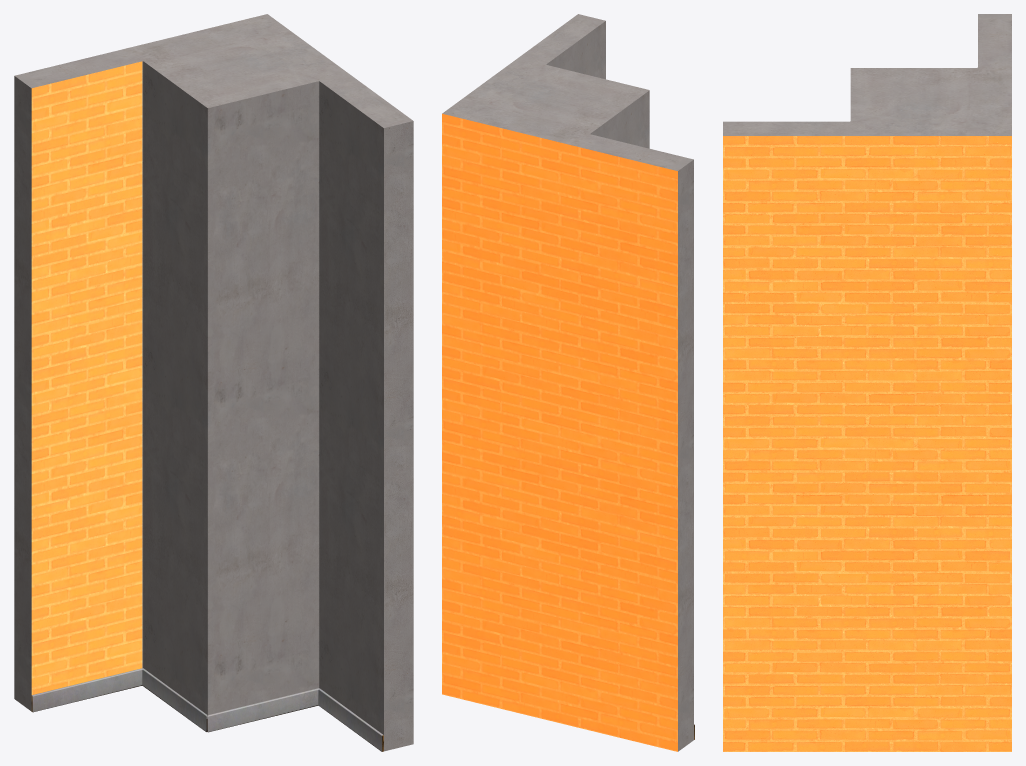
The model's file is SM_Wall_CornerIn_1_5x3_5_01b.fbx.
3 views of the same model, side by side, from view 1: azimuth 30°, elevation 25°; view 2: azimuth 150°, elevation 25°; view 3: azimuth 270°, elevation 25° (orthographic). The views are drawn at different scales.
Parts seen in each view (by area): view 1: SM_Wall_CornerIn_1_5x3_5_01b; view 2: SM_Wall_CornerIn_1_5x3_5_01b; view 3: SM_Wall_CornerIn_1_5x3_5_01b.
Part boxes in pixels (x1,y1,x2,y2): SM_Wall_CornerIn_1_5x3_5_01b: (14,14,413,751); SM_Wall_CornerIn_1_5x3_5_01b: (442,14,694,751); SM_Wall_CornerIn_1_5x3_5_01b: (723,14,1011,751).
Bounding box in the file's own units: 170 × 400 × 170.
